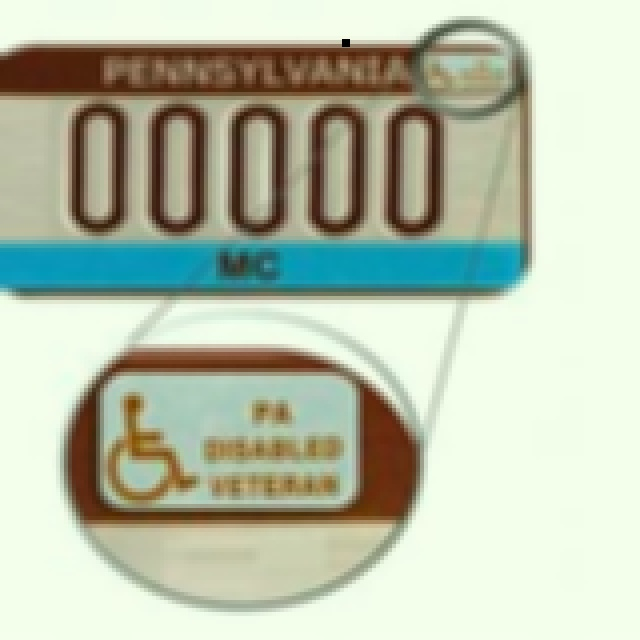ISA: (101, 388, 202, 505), (420, 53, 458, 89)
